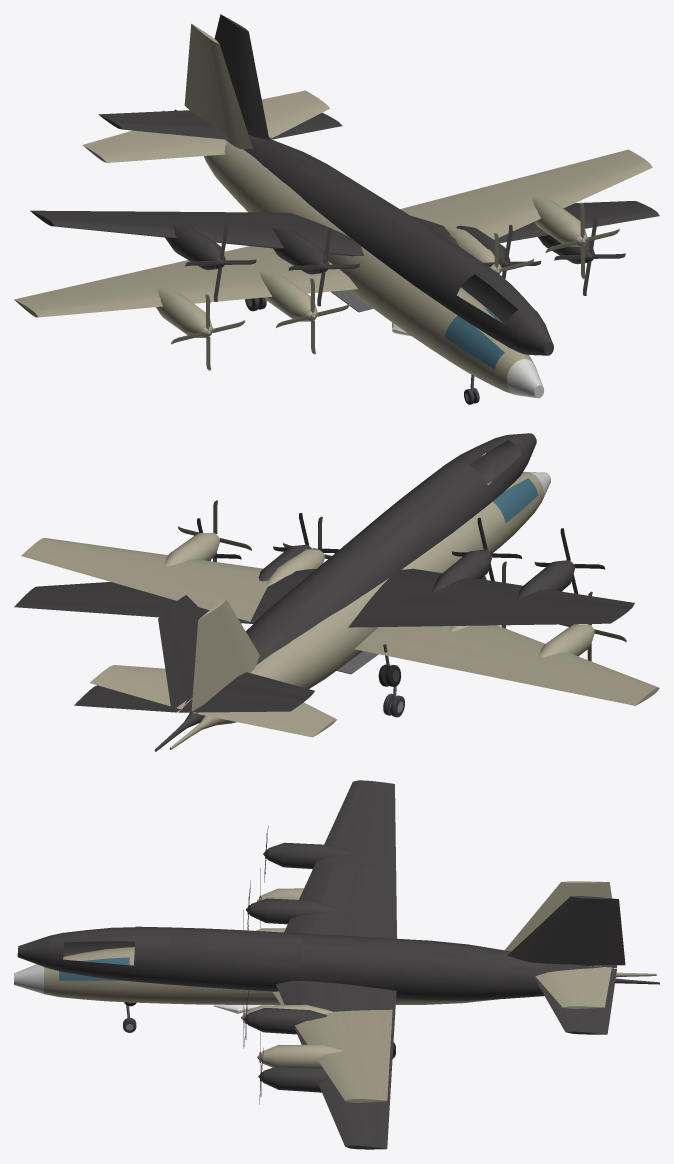
The model's file is maritimePatrol__il_38n.glb.
3 views of the same model, one above another, from view 1: azimuth 30°, elevation 25°; view 2: azimuth 150°, elevation 25°; view 3: azimuth 270°, elevation 25° (orthographic). The views are drawn at different scales.
Parts seen in each view (by area): view 1: Fuselage_Mesh, Wreck, Propeller_1_Mesh, Propeller_3_Mesh, Propeller_Mesh; view 2: Wreck, Fuselage_Mesh; view 3: Wreck, Fuselage_Mesh.
Part boxes in pixels (<box>): Fuselage_Mesh: <box>14,24,652,404</box>; Wreck: <box>30,14,659,355</box>; Propeller_1_Mesh: <box>171,294,245,370</box>; Propeller_3_Mesh: <box>545,202,619,279</box>; Propeller_Mesh: <box>276,277,349,354</box>; Wreck: <box>14,433,634,751</box>; Fuselage_Mesh: <box>21,471,659,749</box>; Wreck: <box>17,780,659,1149</box>; Fuselage_Mesh: <box>14,881,656,1102</box>.
Size of what is drawn, in the model's own units: 37.85 by 10.16 by 39.8.
